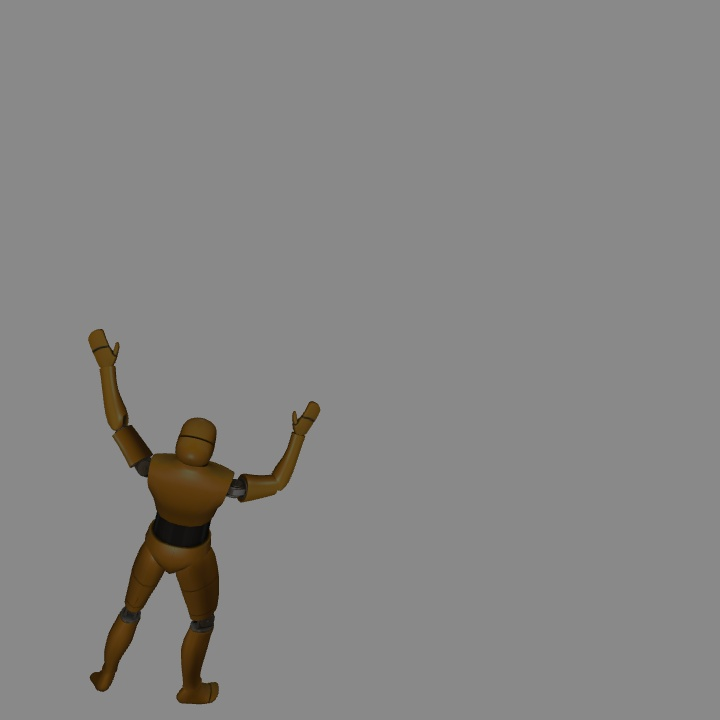victim: (87, 325, 226, 702)
